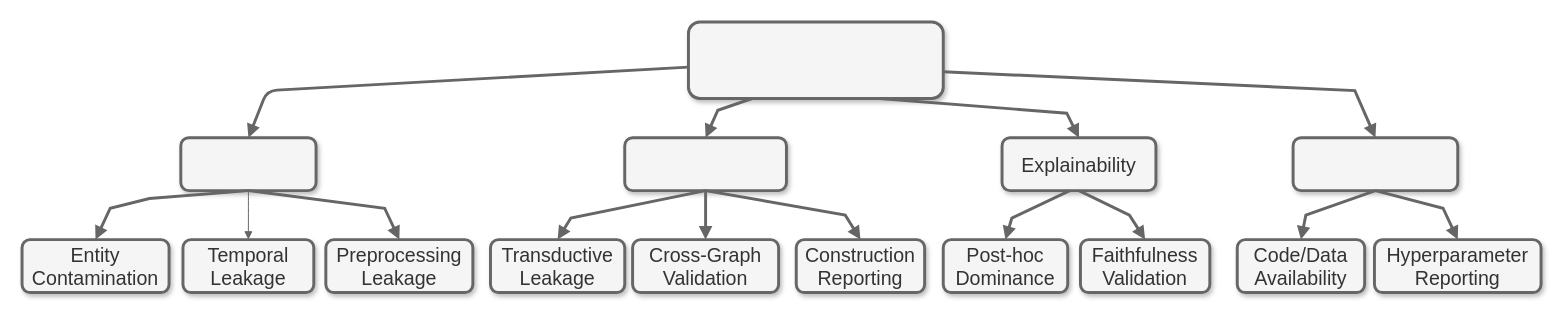
Image size: 1565x318. Some labels were removed from this diagram. Each missing label, with the centre of its shape:
"Evaluation Methodology" goes at (249,165).
"Graph-Specific" goes at (706,165).
"Reproducibility" goes at (1376,165).
"Research Gaps in Security ML Evaluation" goes at (816,61).
